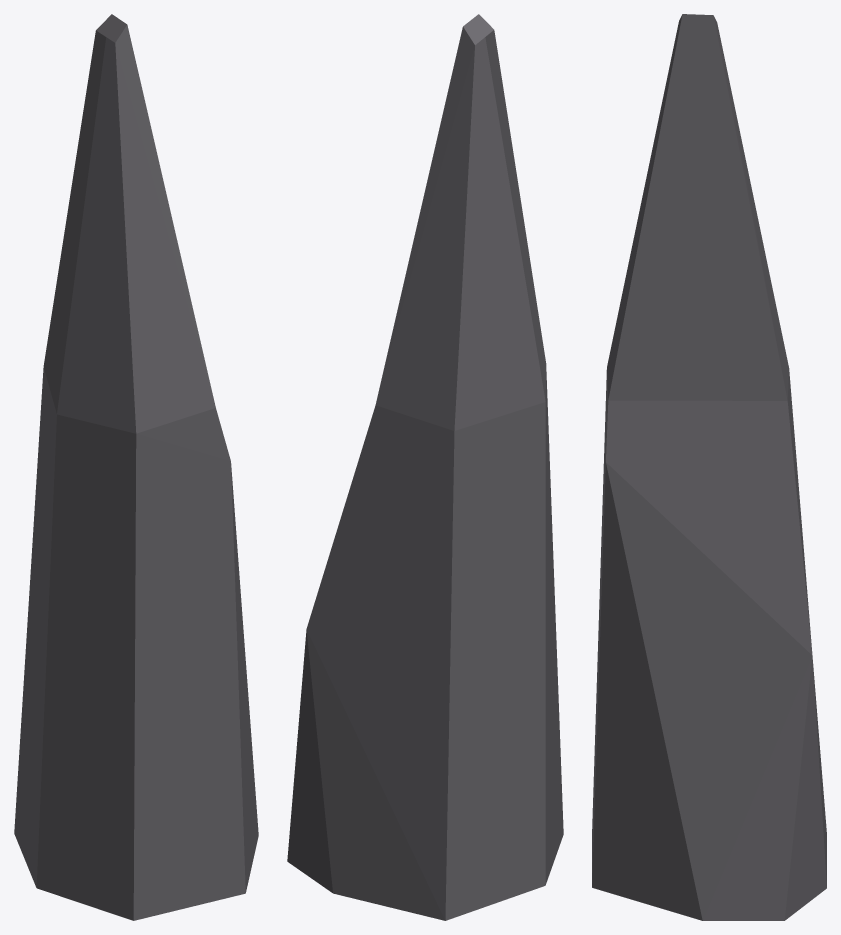
The model's file is Rock_Sharp_s_03.fbx.
The picture shows the model from 3 angles, left to right: view 1: azimuth 30°, elevation 25°; view 2: azimuth 150°, elevation 25°; view 3: azimuth 270°, elevation 25°; orthographic projection.
Visible parts, largest first — view 1: Rock_Sharp_s_03; view 2: Rock_Sharp_s_03; view 3: Rock_Sharp_s_03.
Part boxes in pixels (x1,y1,x2,y2): Rock_Sharp_s_03: [14, 14, 258, 920]; Rock_Sharp_s_03: [287, 14, 563, 920]; Rock_Sharp_s_03: [592, 14, 826, 920].
Bounding box in the file's own units: 20.17 × 74.47 × 18.9.
